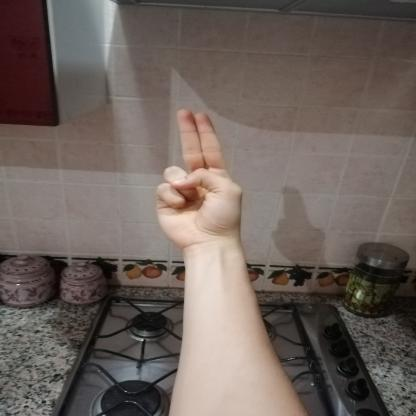TA: (139, 100, 255, 254)
